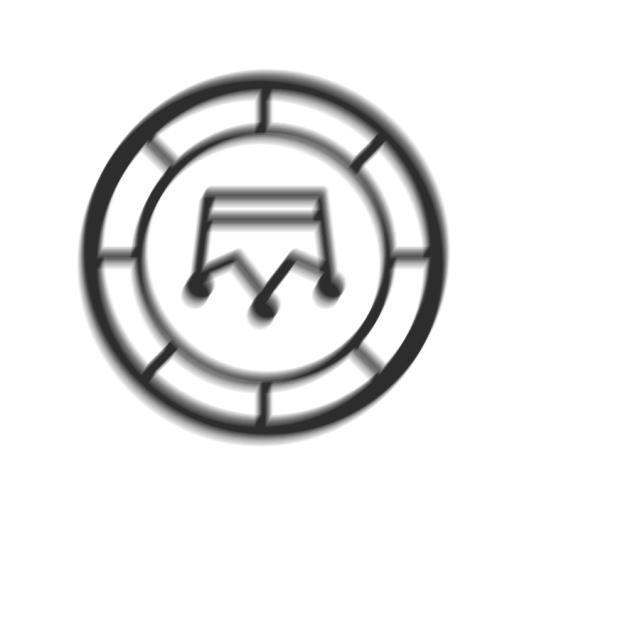coin: (74, 66, 457, 455)
